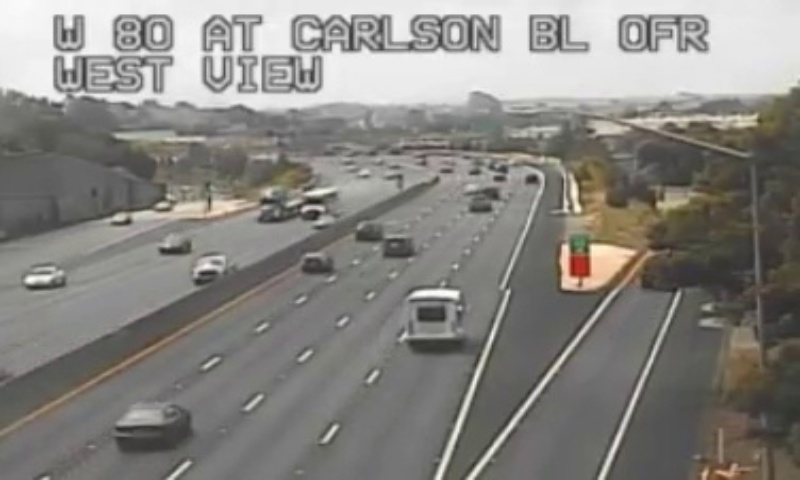bus: (404, 288, 461, 342)
car: (114, 402, 187, 443), (382, 234, 412, 256), (300, 254, 329, 274)
